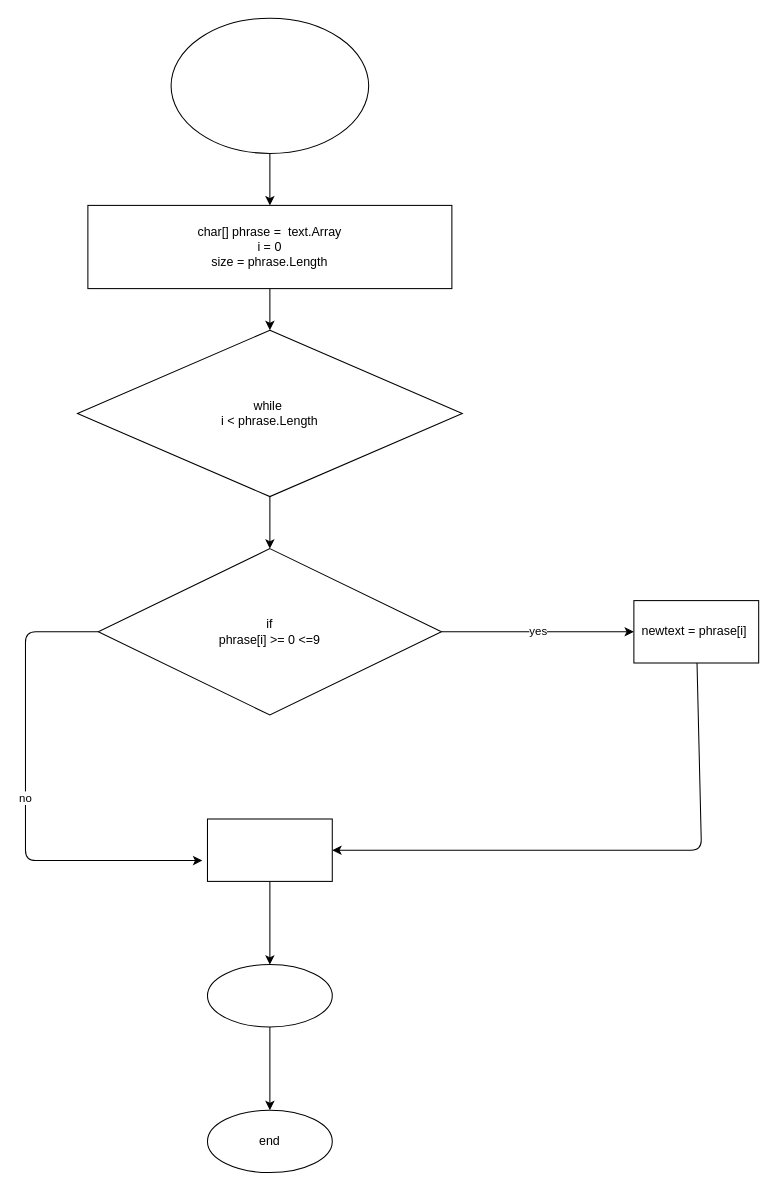
This 777x1191 diagram has some shape labels left out. Here are the shapes that lost their labels. From the top down, the box of each, then its label:
(170, 17, 369, 153): исходная фраза text = 124fgsdf2548sadfgf
(206, 818, 332, 881): i++
(206, 964, 332, 1027): newtext
